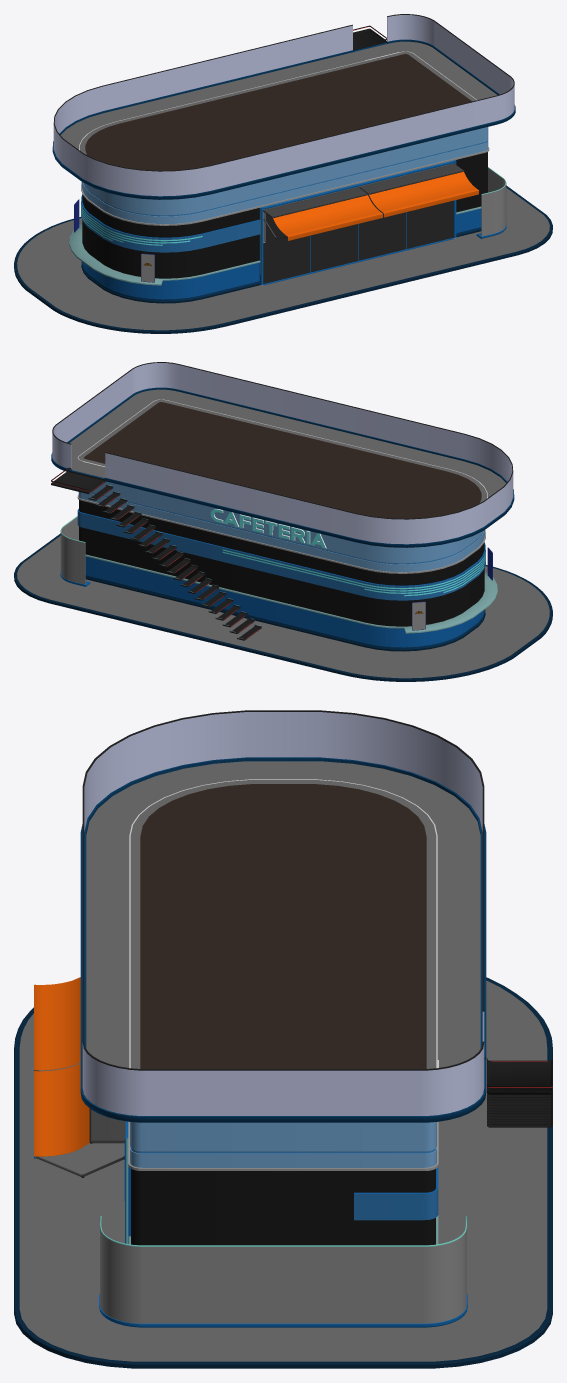
File: Building_Cafe_003_L0.fbx
3 views of the same model, one above another, from view 1: azimuth 30°, elevation 25°; view 2: azimuth 150°, elevation 25°; view 3: azimuth 270°, elevation 25° (orthographic). The views are drawn at different scales.
Visible parts, largest first — view 1: Building_Cafe_003_L0; view 2: Building_Cafe_003_L0; view 3: Building_Cafe_003_L0.
Part boxes in pixels (x1,y1,x2,y2): Building_Cafe_003_L0: (14, 14, 552, 333); Building_Cafe_003_L0: (14, 362, 552, 681); Building_Cafe_003_L0: (14, 710, 552, 1368).
Size of the model in its own units: 19.75 by 5.93 by 10.75.
